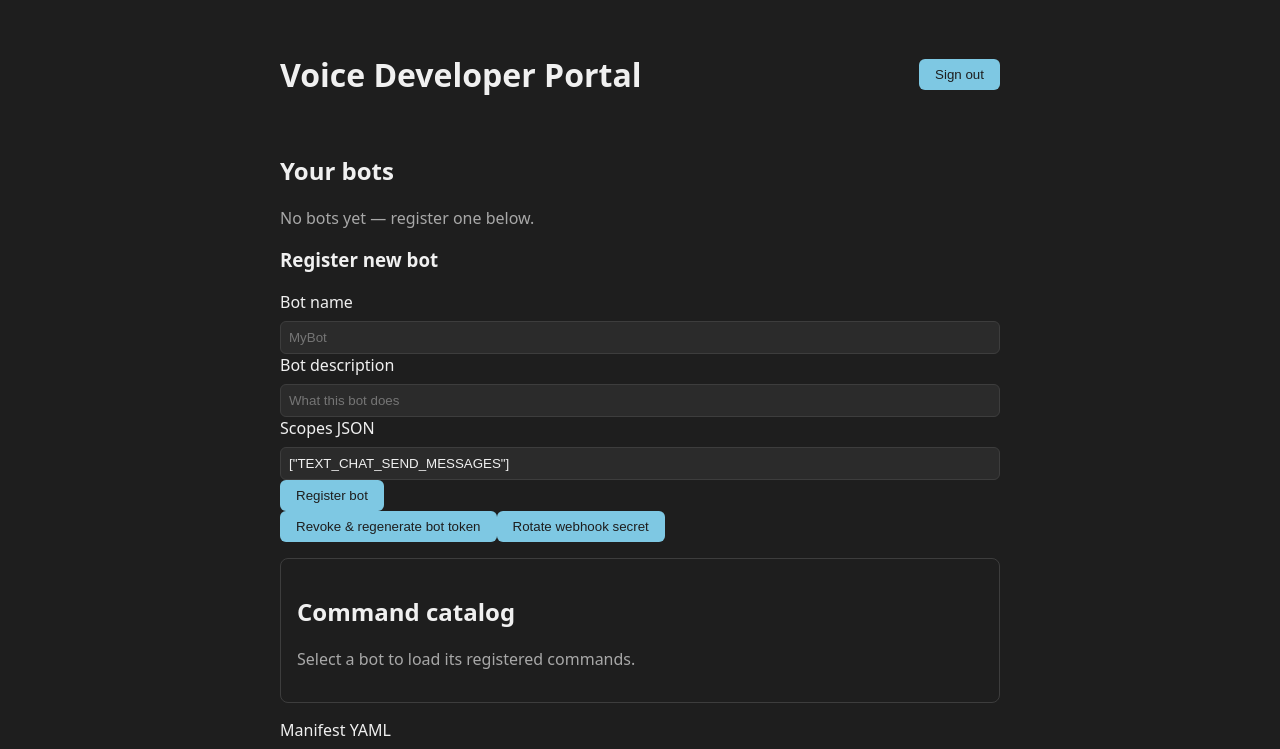
App bot registration and selection › shows registration secrets in a copy-once dialog and clears each after copying
Expected: the element with test id "bot-register" is shown, left=280, top=247, right=1000, bottom=511
Type "Secret Bot" into the field labelled "Bot name" at point(640, 338), box left=280, top=321, right=1000, bottom=354
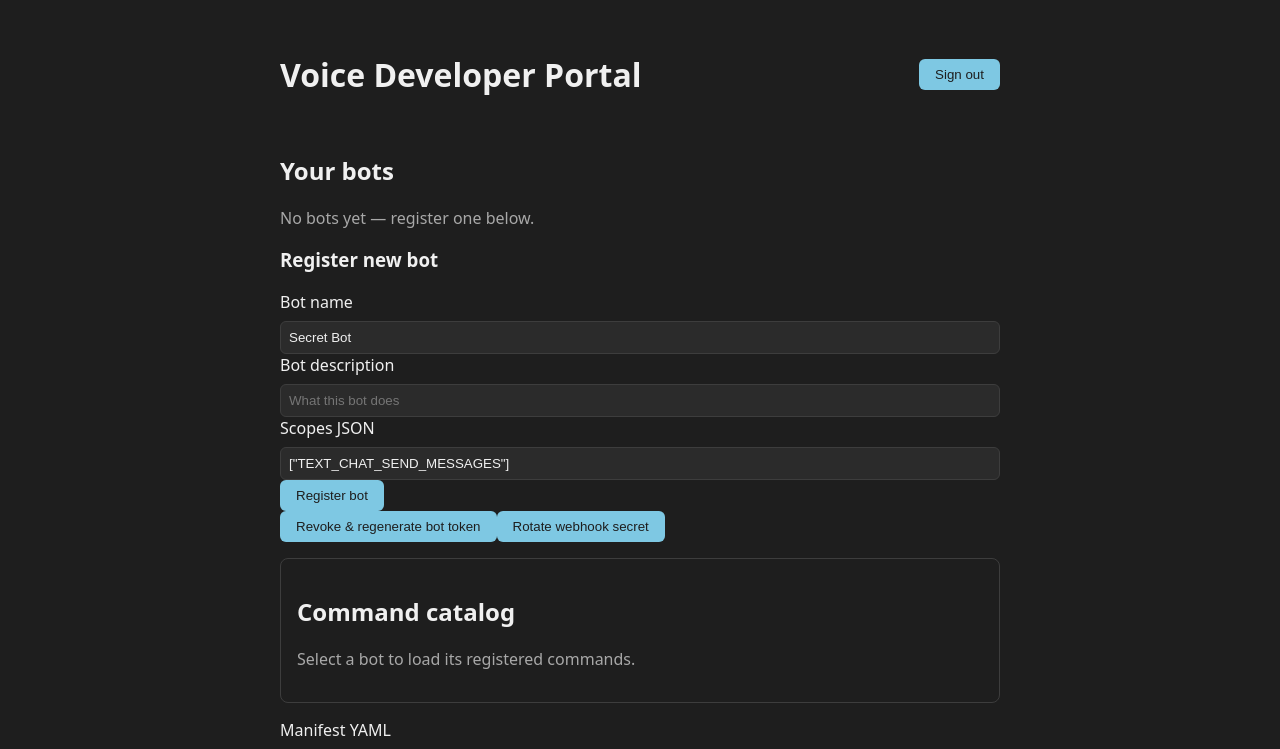
Click the button "Register bot" at point(332, 496), box left=280, top=480, right=384, bottom=511
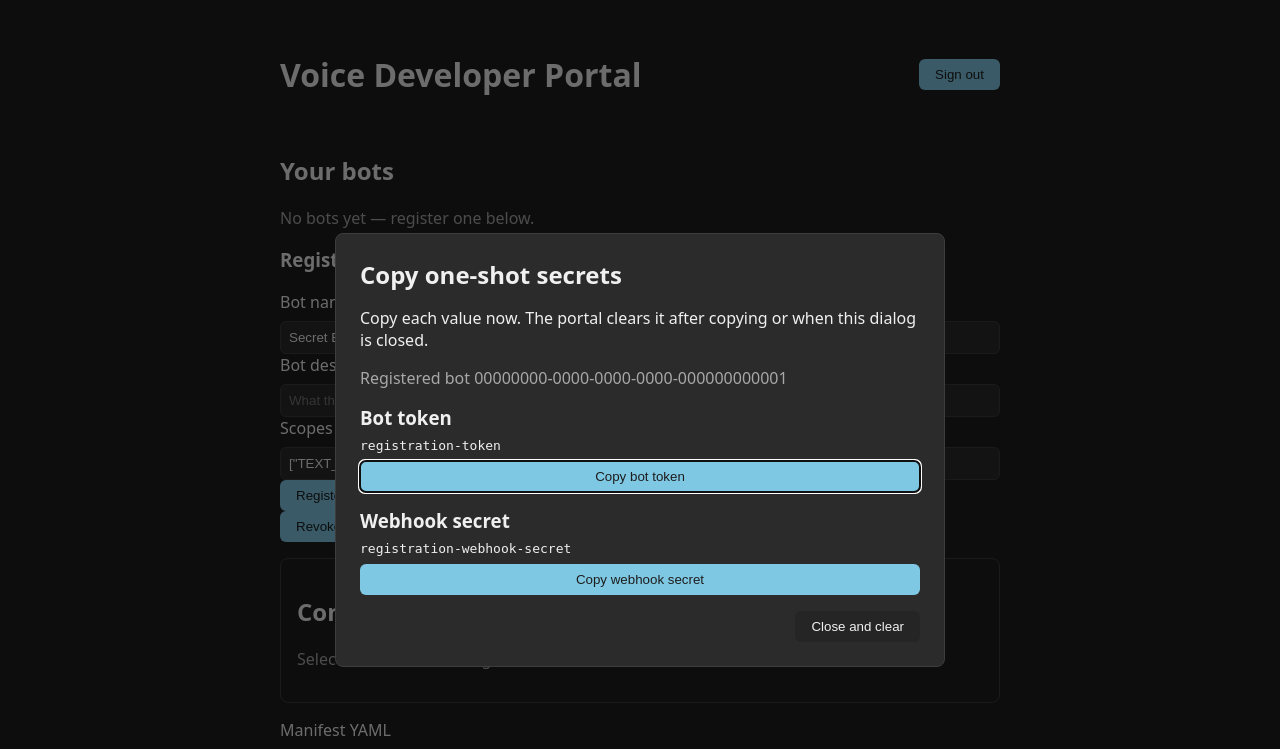
Result: the dialog "Copy one-shot secrets" shows "registration-token" at left=360, top=438, right=501, bottom=453
Result: the dialog "Copy one-shot secrets" shows "registration-webhook-secret" at left=360, top=541, right=571, bottom=556
Click the button "Copy bot token" at point(640, 476), box left=360, top=461, right=920, bottom=492
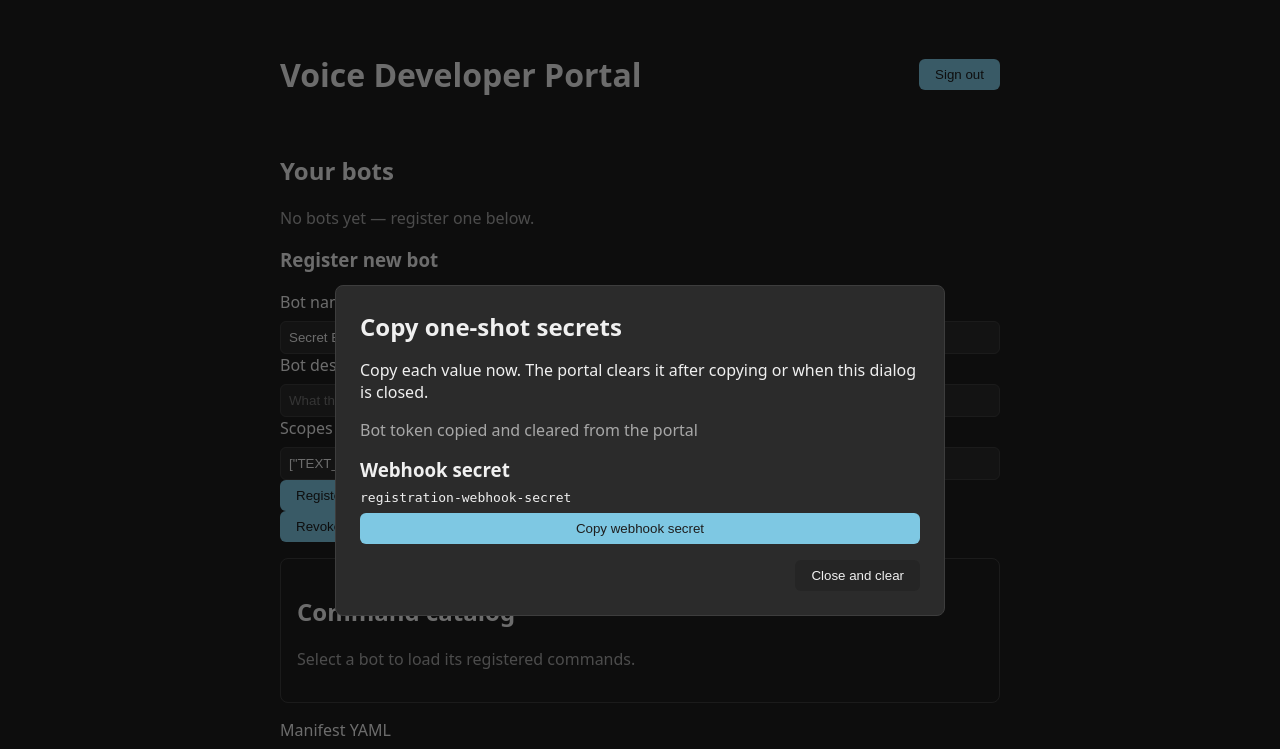
Result: the dialog "Copy one-shot secrets" shows "registration-webhook-secret" at left=360, top=490, right=571, bottom=504
Result: the dialog "Copy one-shot secrets" no longer shows "registration-token" at left=335, top=284, right=945, bottom=616
Click the button "Copy webhook secret" at point(640, 528), box left=360, top=512, right=920, bottom=544
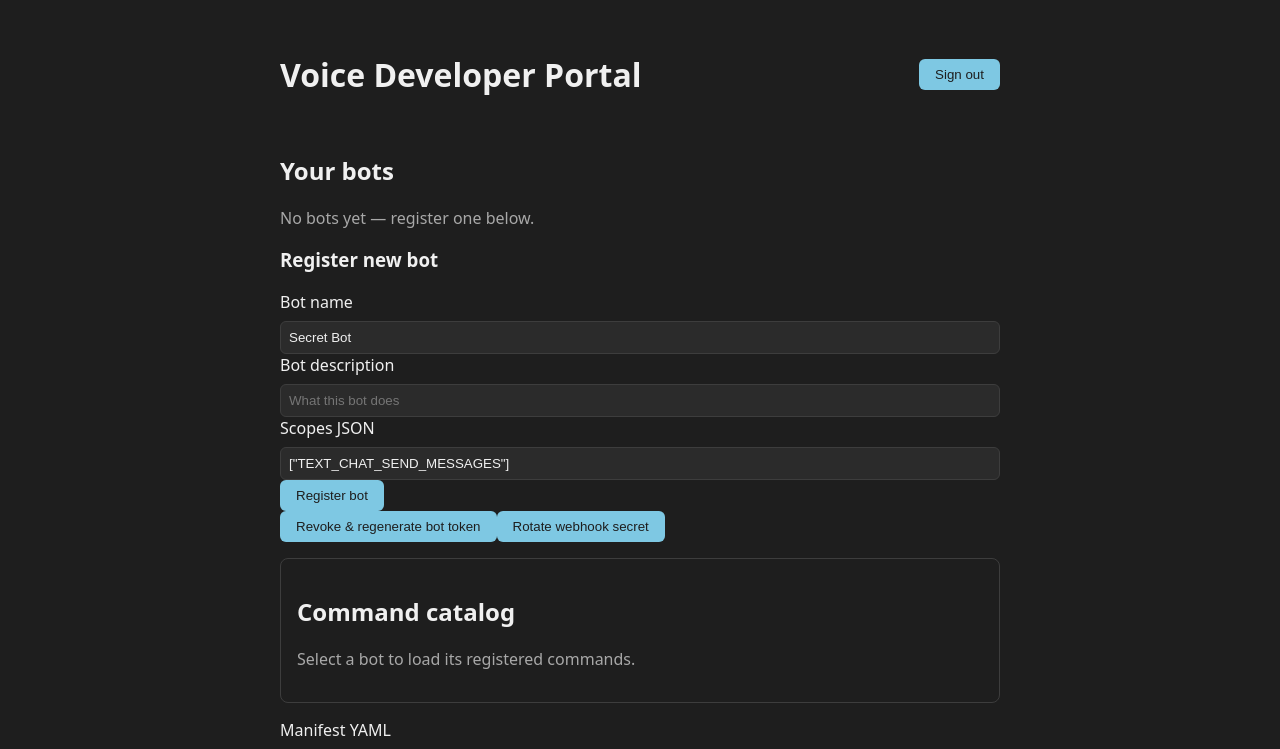
Result: the heading "Copy one-shot secrets" is gone
